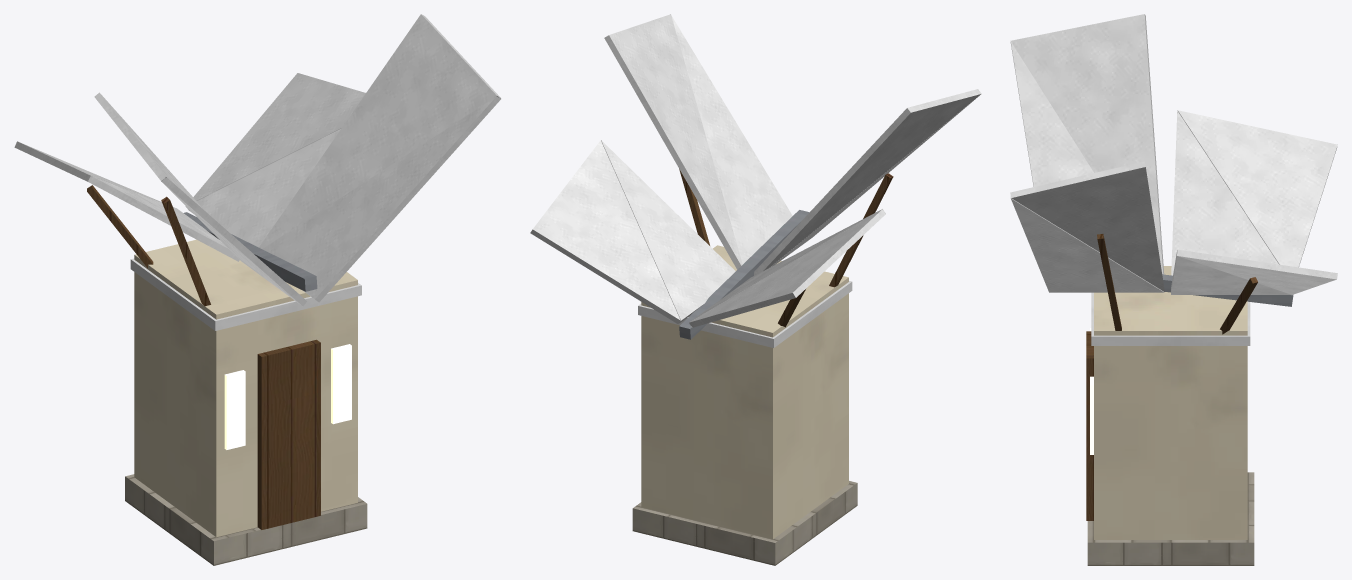
File: protocol.morpho.glb
The picture shows the model from 3 angles, left to right: view 1: azimuth 30°, elevation 25°; view 2: azimuth 150°, elevation 25°; view 3: azimuth 270°, elevation 25°; orthographic projection. The views are drawn at different scales.
Visible parts, largest first — view 1: building.protocol.morpho; view 2: building.protocol.morpho; view 3: building.protocol.morpho.
Boxes of the visible parts, x1,y1,x2,y2 form: building.protocol.morpho: (14,14,501,565); building.protocol.morpho: (530,14,981,565); building.protocol.morpho: (1010,14,1337,565).
Size of the model in its own units: 2.88 by 3.81 by 2.56.
7 materials, 6 textured.
